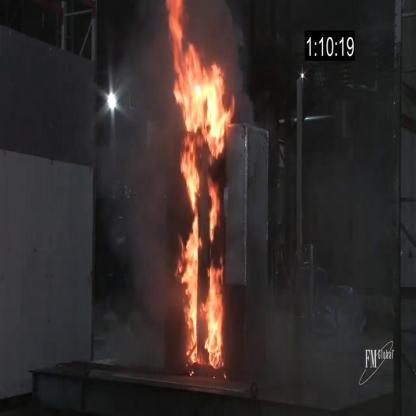fire: (161, 8, 241, 391)
